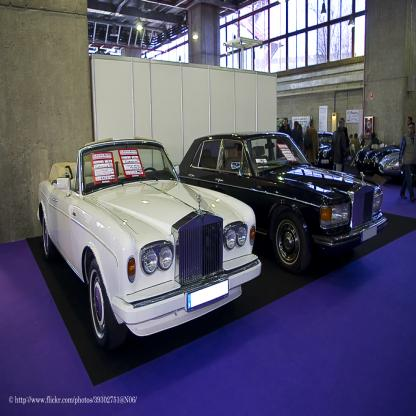Car: (36, 135, 263, 350), (165, 134, 387, 278)
